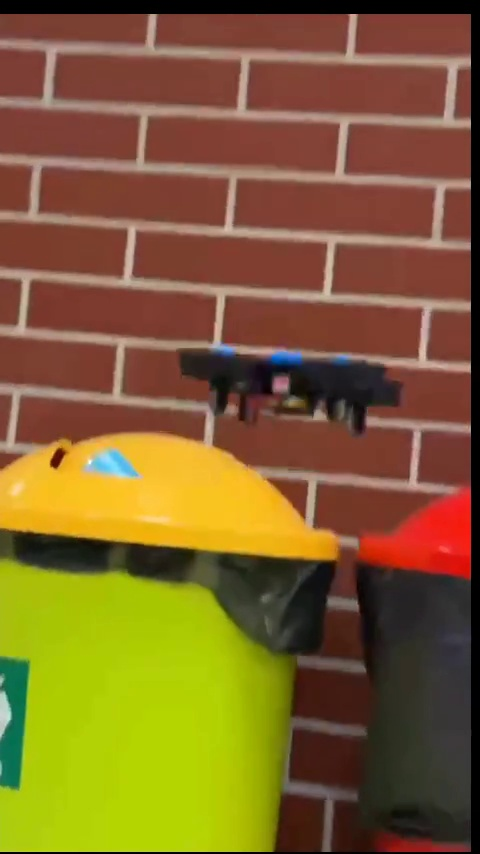drone: (165, 344, 404, 435)
